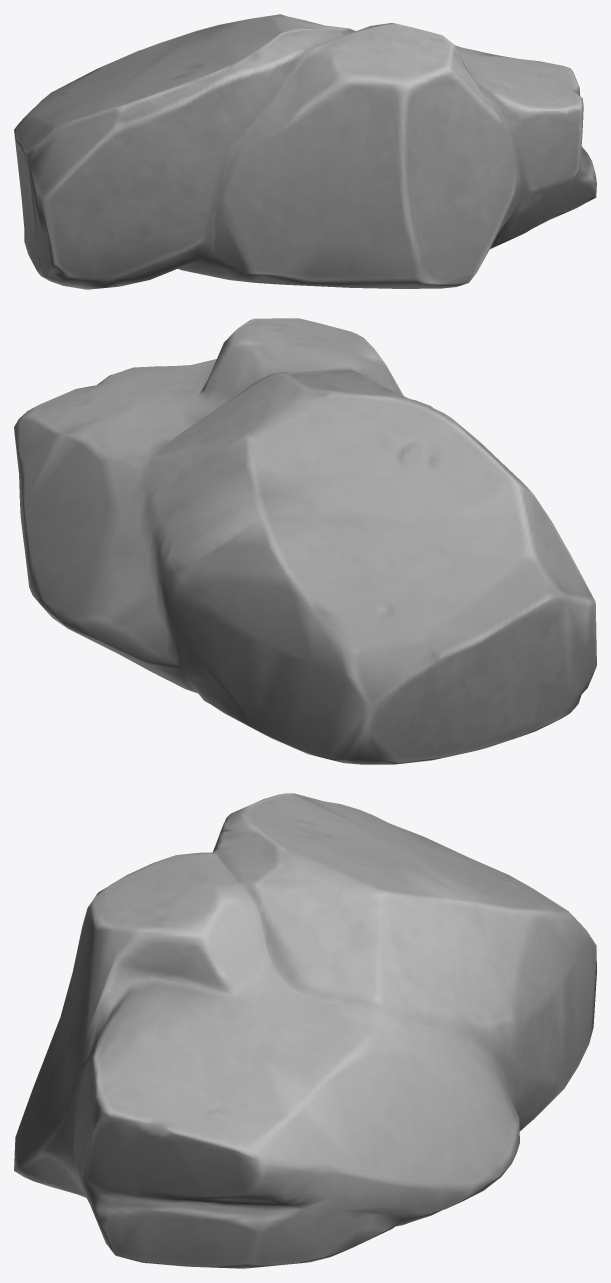
The model's file is SM_Rocks_03.obj.
The picture shows the model from 3 angles, top to bottom: view 1: azimuth 30°, elevation 25°; view 2: azimuth 150°, elevation 25°; view 3: azimuth 270°, elevation 25°; orthographic projection. The views are drawn at different scales.
Visible parts, largest first — view 1: SM_Rocks_03; view 2: SM_Rocks_03; view 3: SM_Rocks_03.
Boxes of the visible parts, x1,y1,x2,y2 form: SM_Rocks_03: (14, 14, 596, 289); SM_Rocks_03: (14, 318, 596, 764); SM_Rocks_03: (14, 793, 596, 1268).
Bounding box in the file's own units: 2.18 × 0.8878 × 1.61.
1 material, 1 textured.
